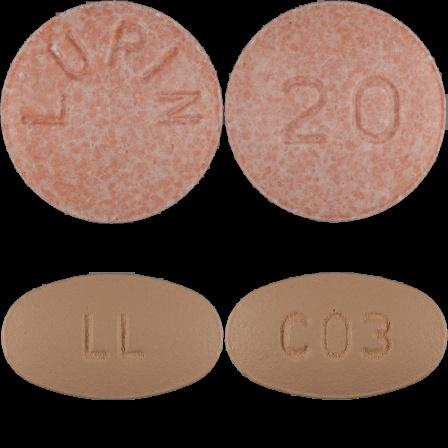68645-469: (0, 0, 224, 224)
